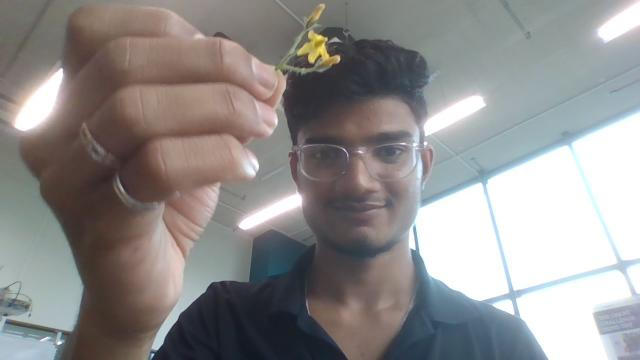Anthesis: (294, 29, 339, 68), (305, 3, 325, 29)
